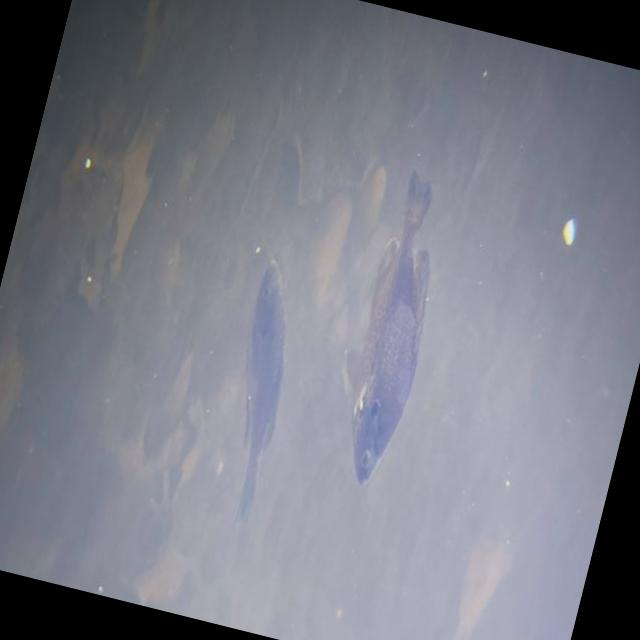Gunes Levregi: (306, 160, 466, 502)
